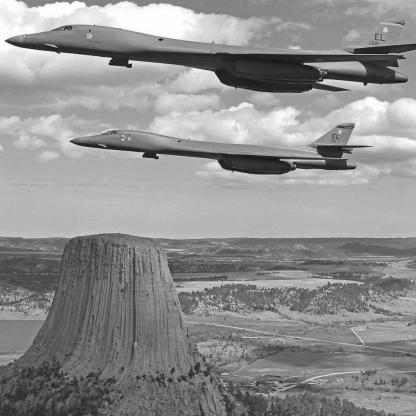B1: (4, 18, 416, 95), (70, 124, 375, 176)
